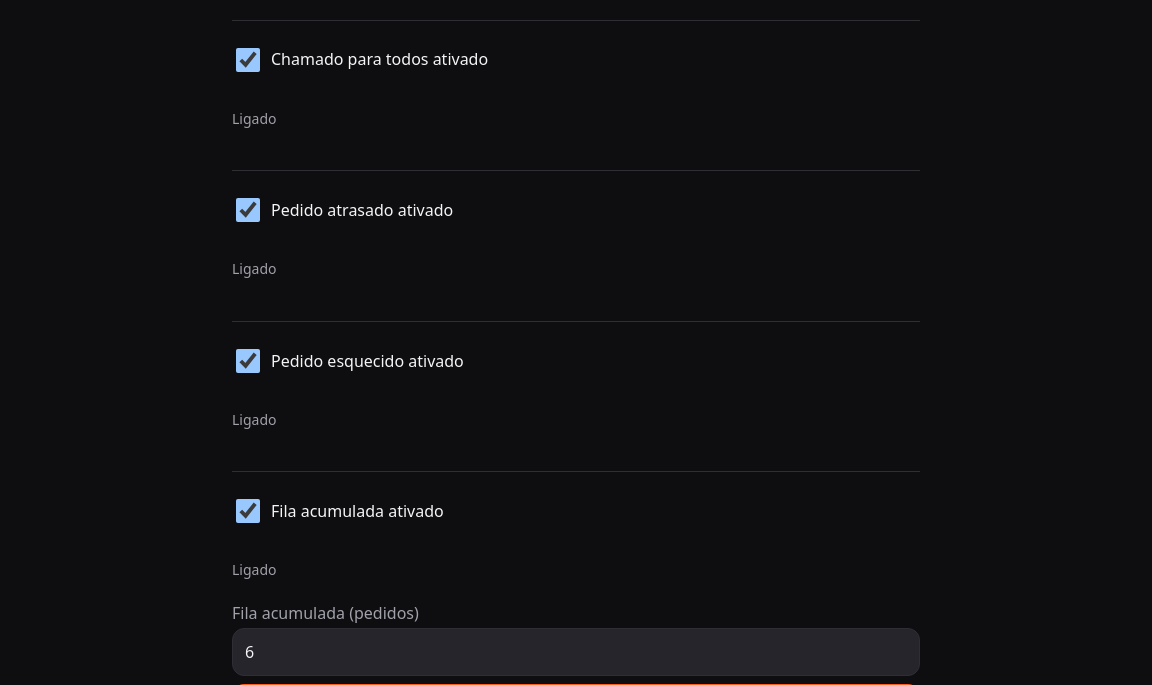
Test: Limites dos alertas › falha antiga não desfaz uma mudança mais nova
The width and height of the screenshot is (1152, 685).
Later steps or results of the test are not shown.
(page scrolled)
Click the switch labelled "Pedido esquecido ativado": (248, 361) [236,337,260,385]
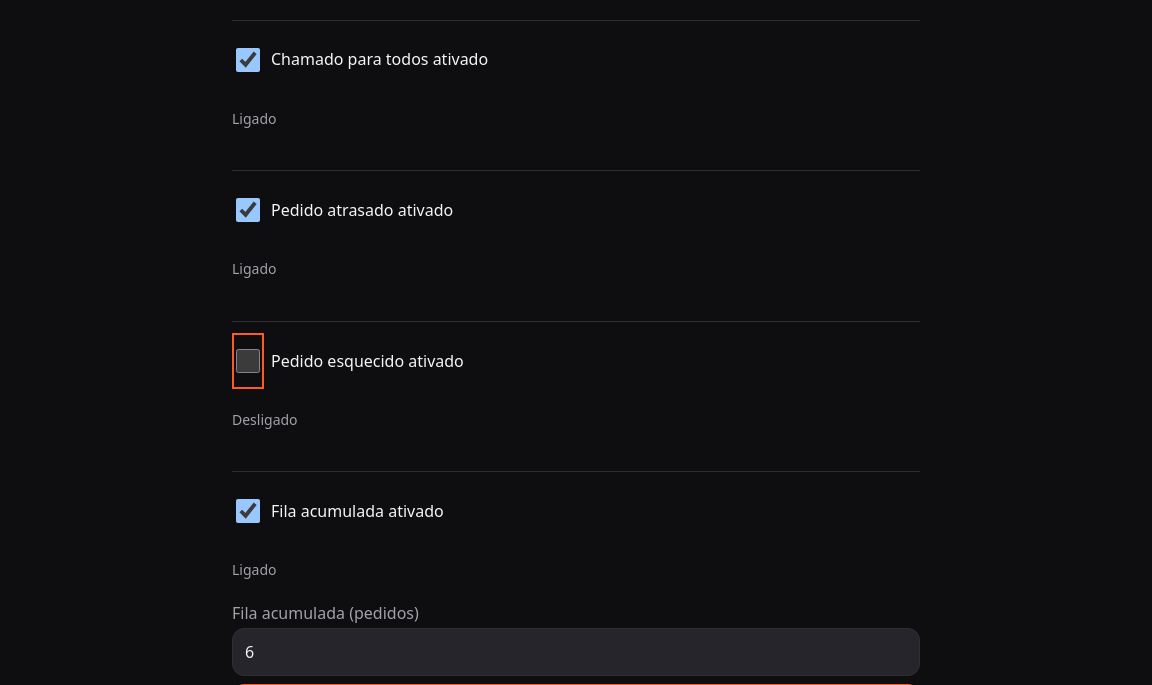
Click the switch labelled "Pedido esquecido ativado": (248, 361) [236,337,260,385]
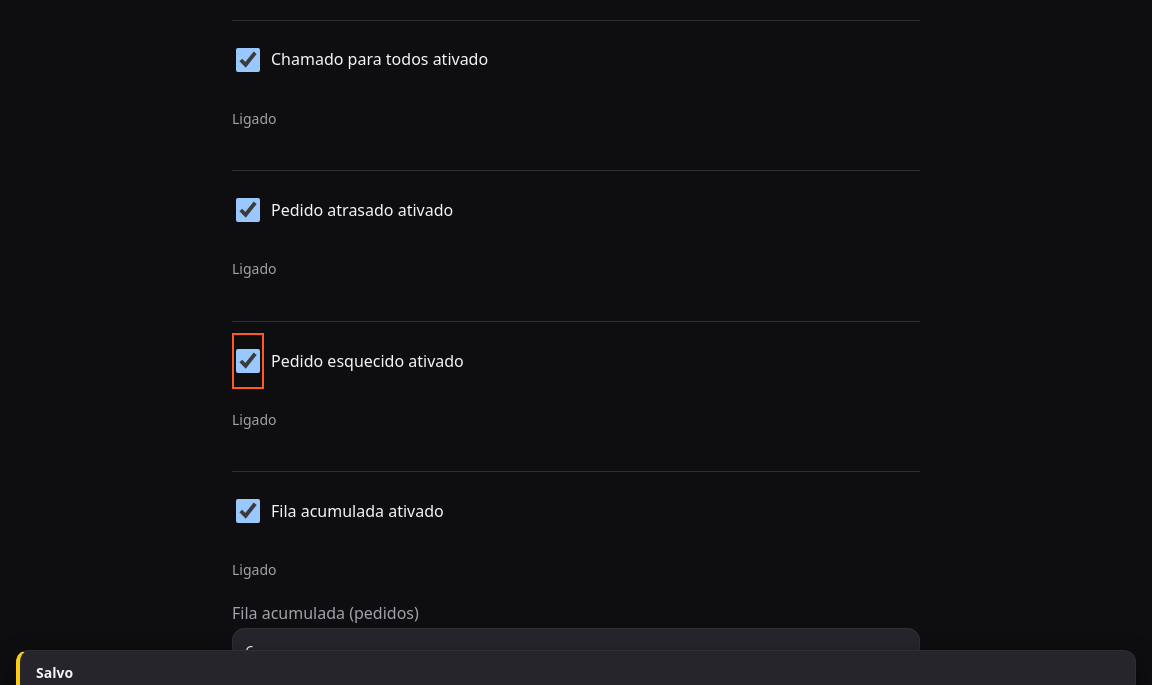
Click the switch labelled "Pedido esquecido ativado": (248, 361) [236,337,260,385]
(page scrolled)
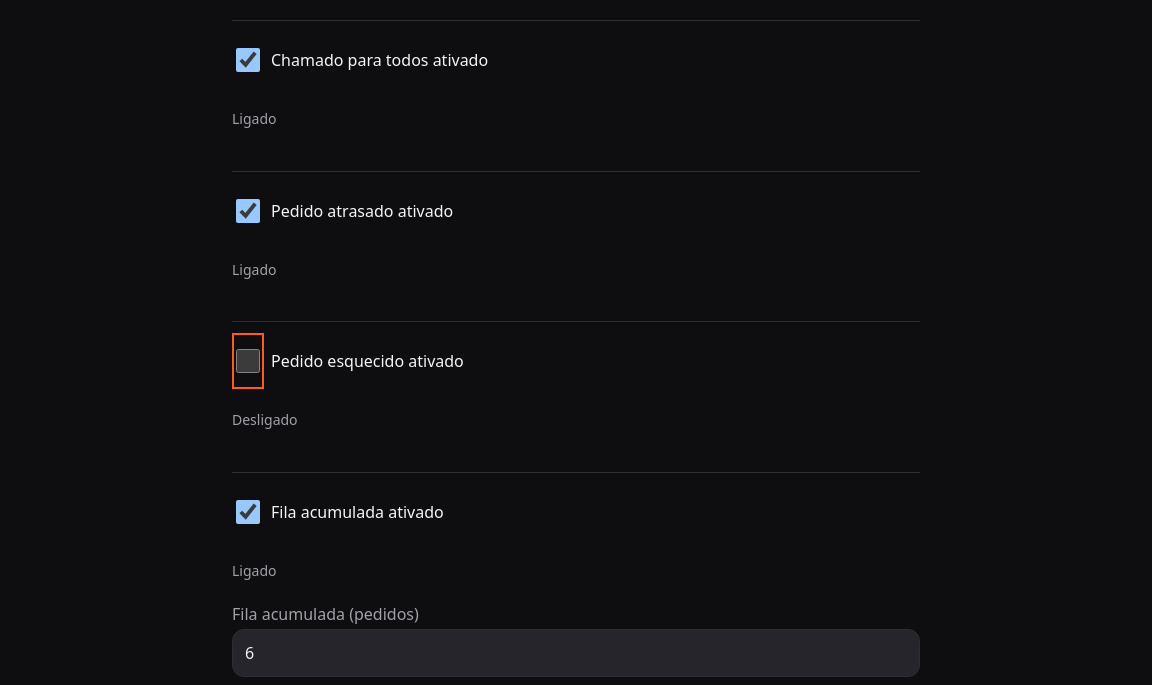
Result: the switch labelled "Pedido esquecido ativado" is not checked at [236,337,260,385]
